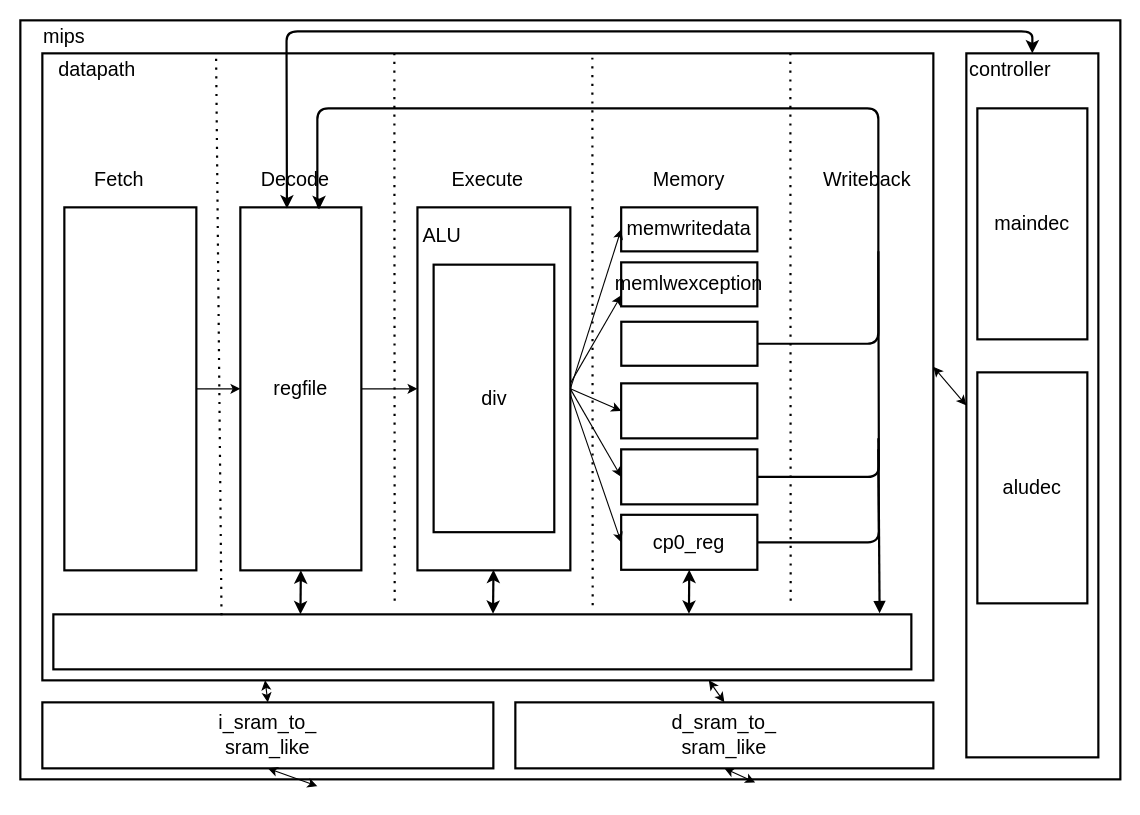
This 1140x815 diagram has some shape labels left out. The shapes that lost their labels are listed below. From the top down, each one's box as (x1, y1, x2, y2) in pixels, then its label:
(620, 320, 758, 366): memreaddata
(63, 206, 197, 571): pc_reg
(620, 382, 758, 439): exception
(620, 448, 758, 505): hilo_reg
(52, 613, 912, 670): Hazard
